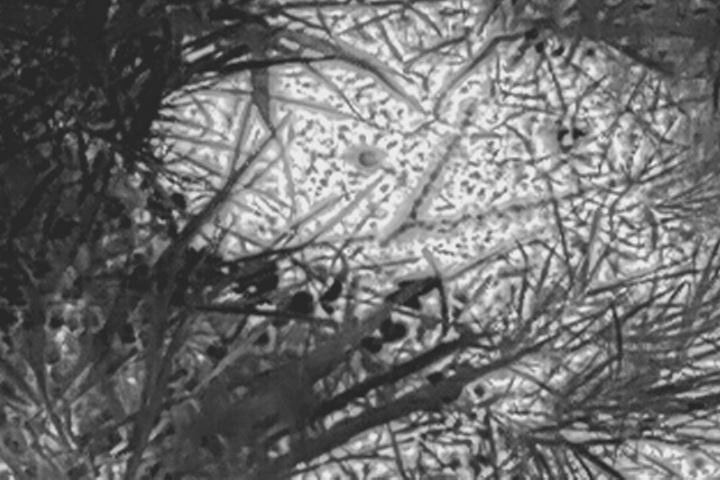landmine: (157, 1, 608, 338)
